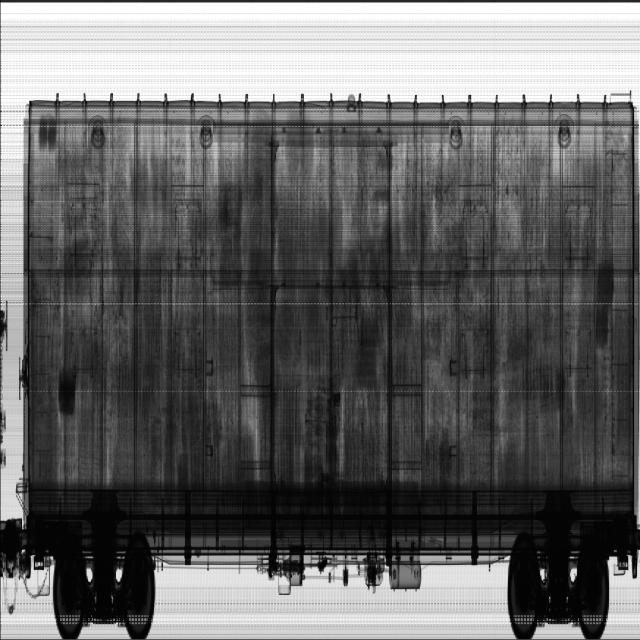office supplies: (113, 303, 193, 488)
